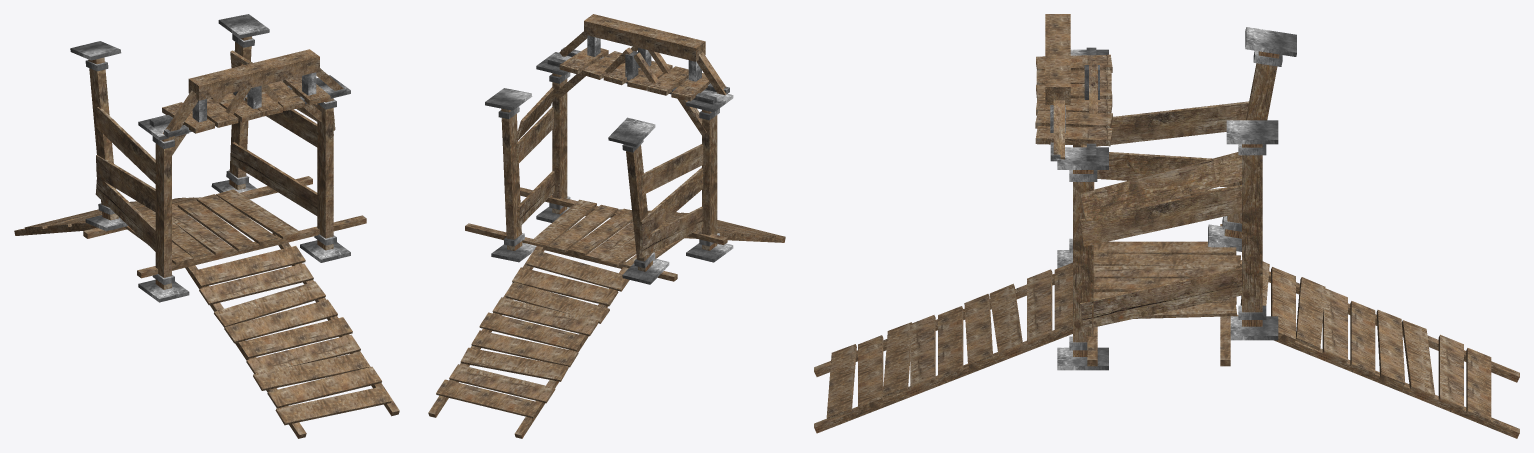
The model's file is union_detail.FBX.
The picture shows the model from 3 angles, left to right: view 1: azimuth 30°, elevation 25°; view 2: azimuth 150°, elevation 25°; view 3: azimuth 270°, elevation 25°; orthographic projection. The views are drawn at different scales.
Visible parts, largest first — view 1: union_detail001, Box011, union_detail, Box014, Box009, Box010, Box013, Box012, union_detail002; view 2: union_detail002, Box011, Box014, union_detail, Box012, Box013, Box009, Box010, union_detail001; view 3: Box014, union_detail001, union_detail002, Box011, union_detail, Box012, Box010, Box013.
Part boxes in pixels (x1,y1,x2,y2): union_detail001: (185,233,399,438); Box011: (149,49,346,155); union_detail: (83,176,366,278); Box014: (95,50,335,251); Box009: (138,115,189,302); Box010: (300,75,350,262); Box013: (70,41,127,231); Box012: (211,14,269,192); union_detail002: (14,197,200,235); union_detail002: (428,246,629,438); Box011: (547,14,729,135); Box014: (515,87,703,258); union_detail: (465,187,727,281); Box012: (485,88,536,262); Box013: (608,117,669,284); Box009: (686,89,733,262); Box010: (536,52,571,222); union_detail001: (585,209,785,242); Box014: (1079,101,1248,329); union_detail001: (814,262,1072,433); union_detail002: (1237,260,1519,438); Box011: (1035,14,1112,189); union_detail: (1087,224,1240,366); Box012: (1226,120,1278,340); Box010: (1057,147,1108,370); Box013: (1208,27,1296,251).
Size of the model in its own units: 125 by 155 by 275.
